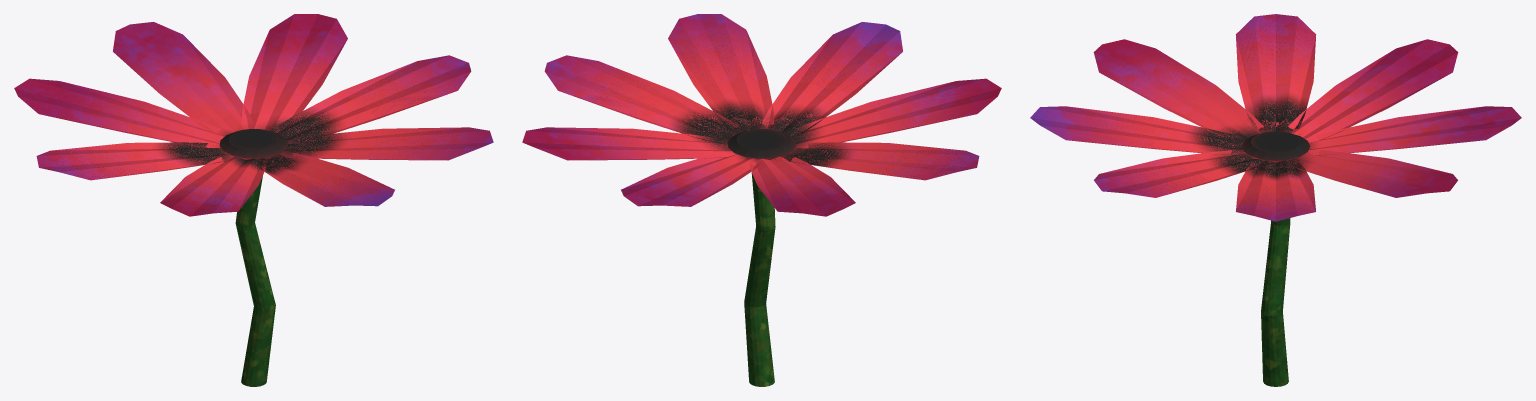
File: Sm_Flowers1.fbx
The picture shows the model from 3 angles, left to right: view 1: azimuth 30°, elevation 25°; view 2: azimuth 150°, elevation 25°; view 3: azimuth 270°, elevation 25°; orthographic projection.
Visible parts, largest first — view 1: Sm_Flowers1; view 2: Sm_Flowers1; view 3: Sm_Flowers1.
Part boxes in pixels (<box>): Sm_Flowers1: <box>14,14,493,386</box>; Sm_Flowers1: <box>522,14,1001,386</box>; Sm_Flowers1: <box>1030,14,1521,386</box>.
Size of the model in its own units: 40.82 by 24.29 by 40.82.
